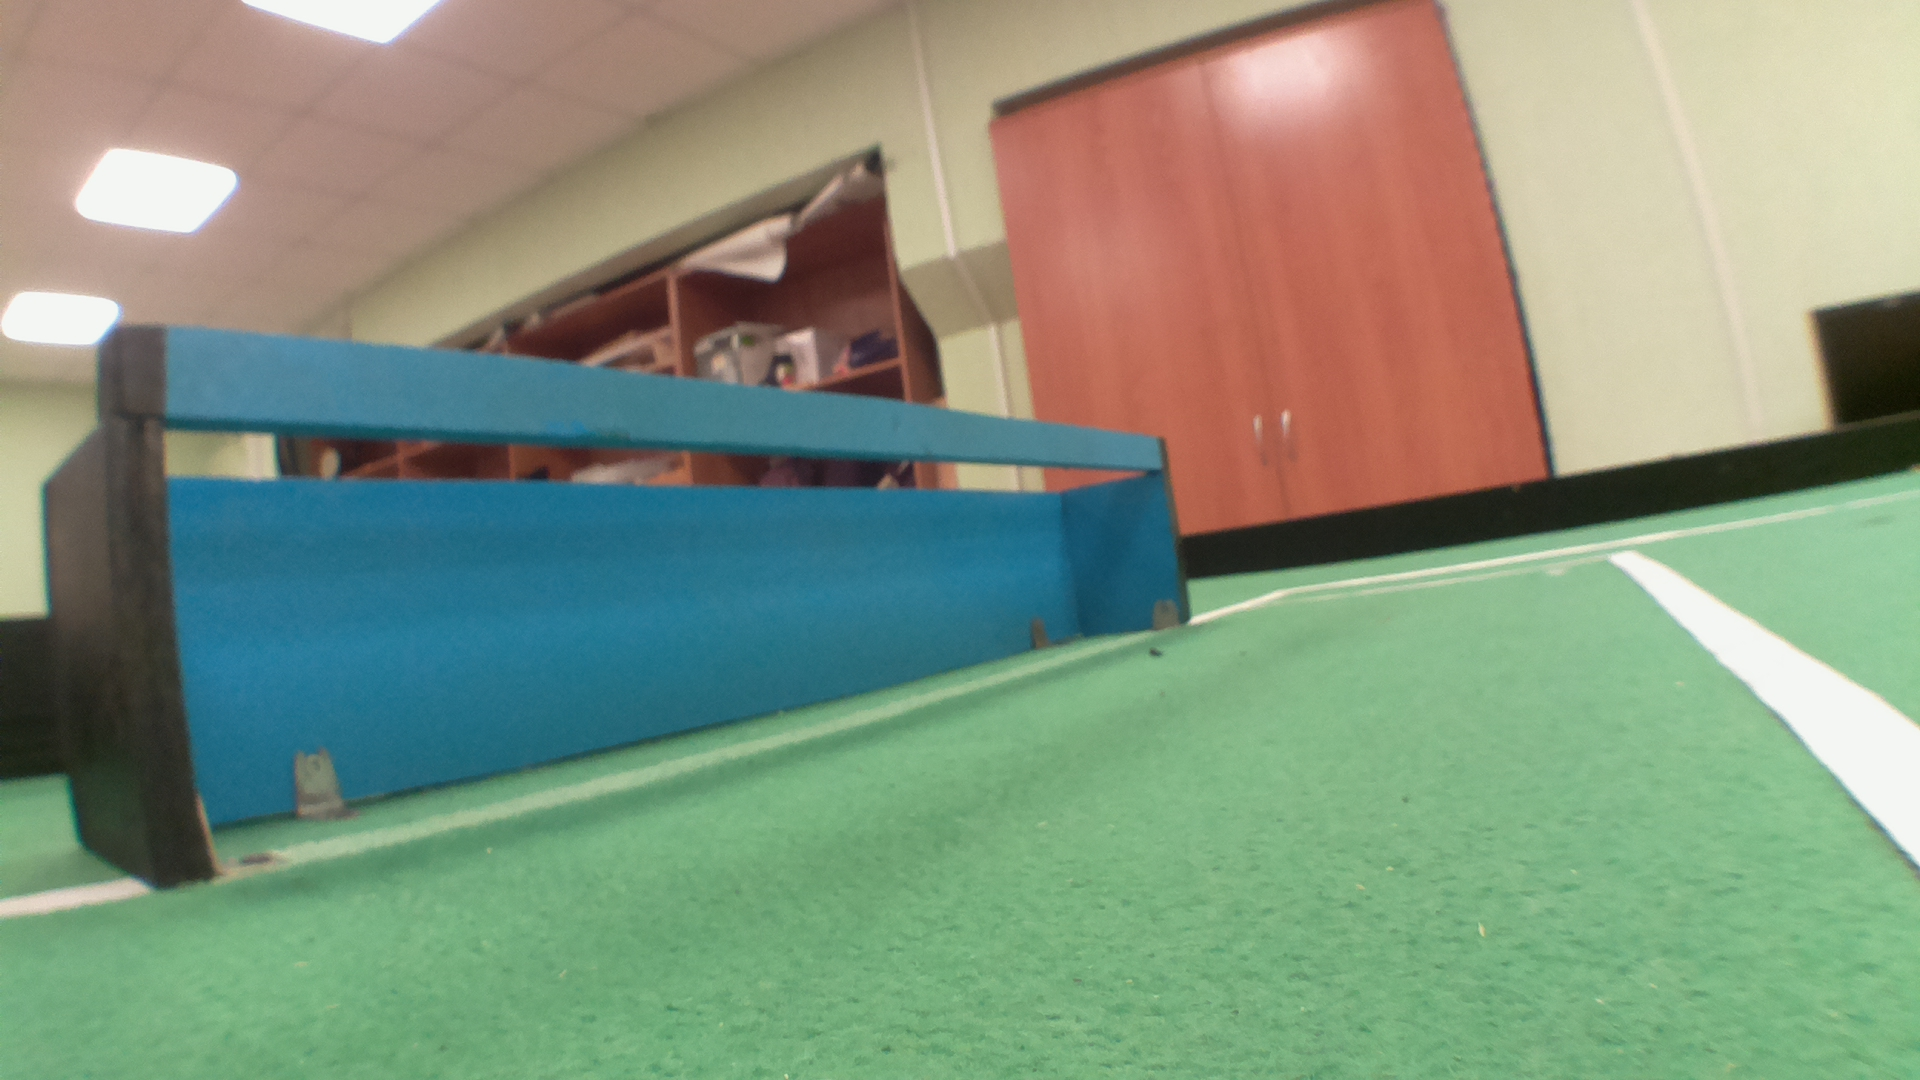BlueGoal: (164, 372, 1170, 690)
